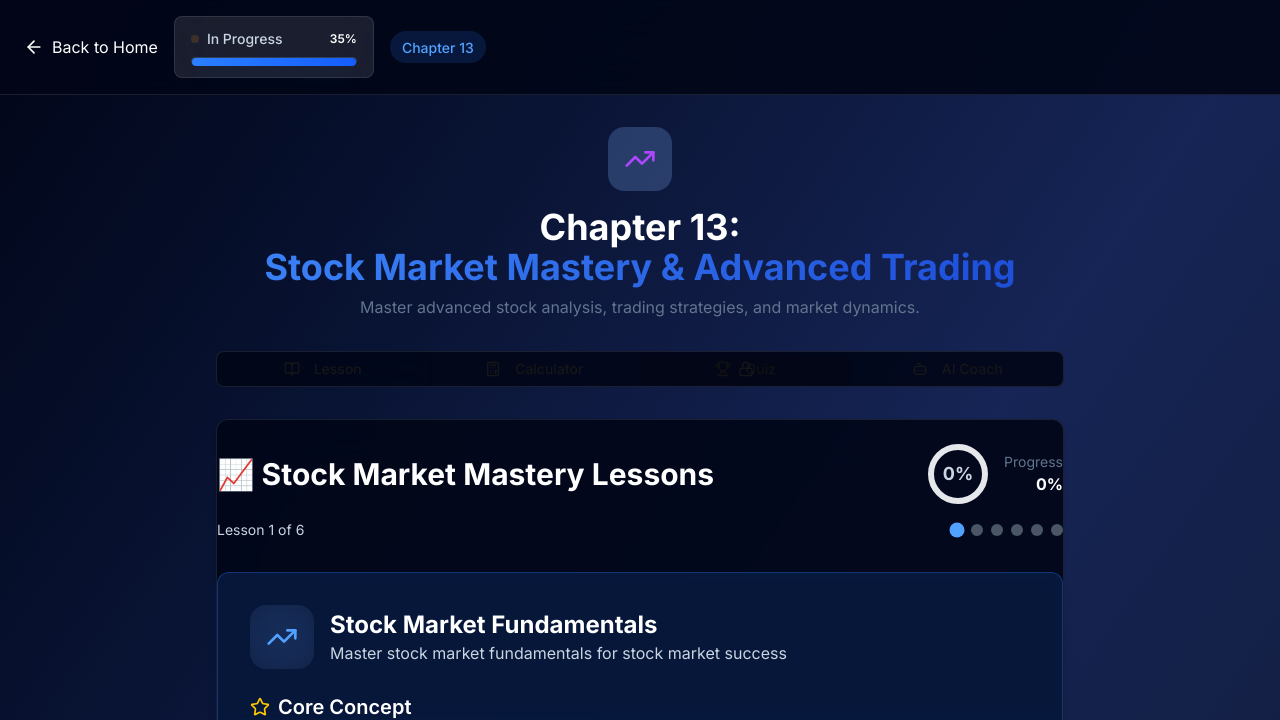
Test: Chapter 13: Stock Market Mastery - Integration Tests › Chapter Layout › displays calculator tabs correctly
# Click the calculator tab first
What coordinates should you click on to do the following:
click the tab "Calculator"
I would click on:
 (534, 369)
Its box is [428,352,640,386].
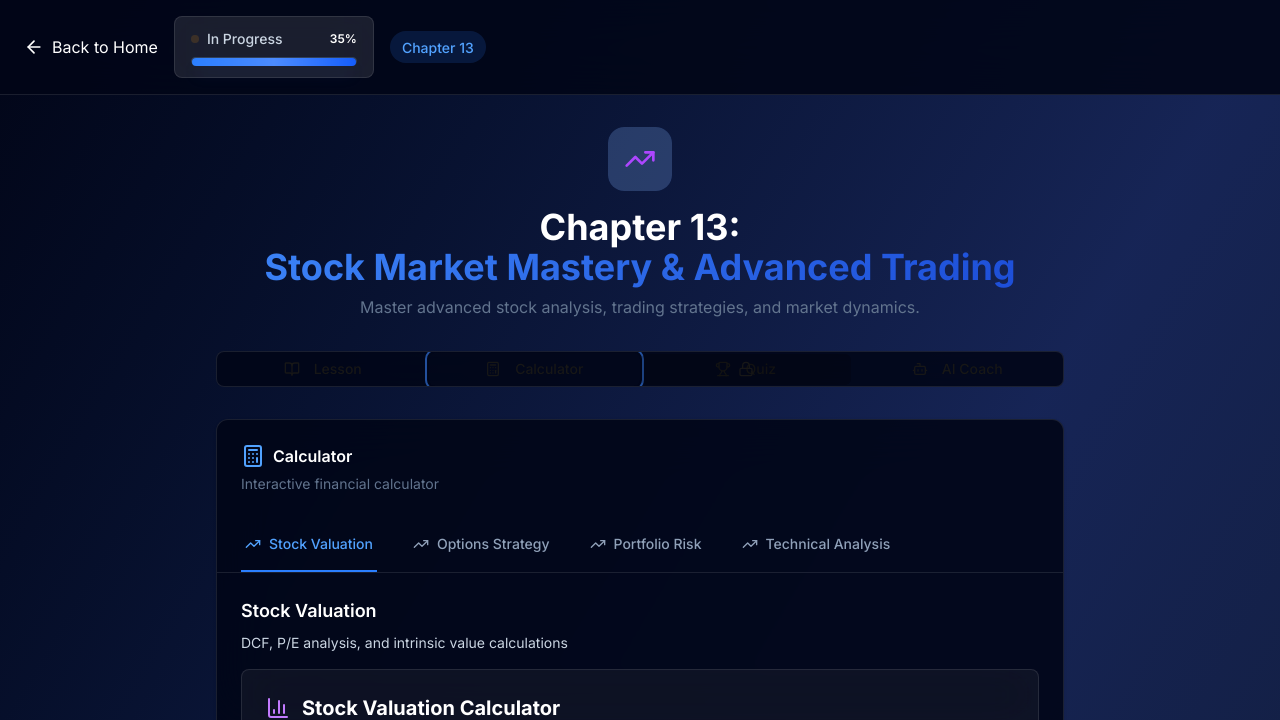
Now the button "Stock Valuation" is shown, box [241,518,377,572]
Now the button "Options Strategy" is shown, box [409,518,554,572]
Now the button "Portfolio Risk" is shown, box [586,518,706,572]
